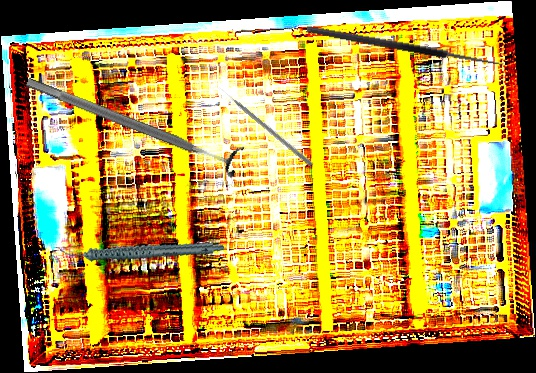Fixation Ring: (21, 64, 245, 180)
Handpiece: (57, 213, 226, 287)
Hook Surgical: (305, 15, 507, 70)
Pusher: (217, 84, 315, 168)
